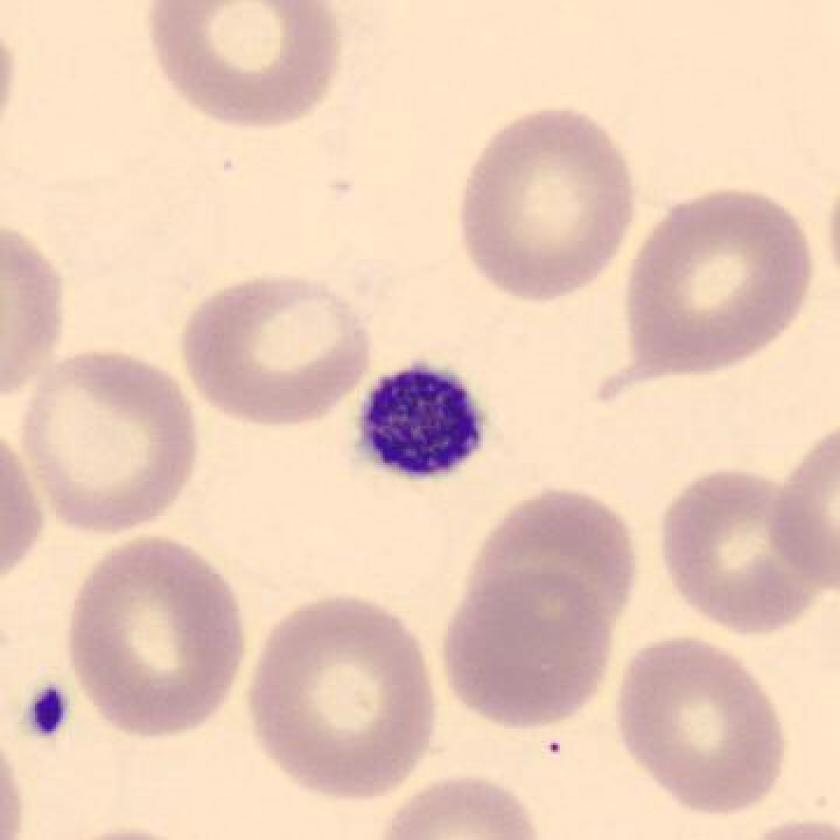platelets: (342, 355, 496, 496), (20, 672, 85, 753)
